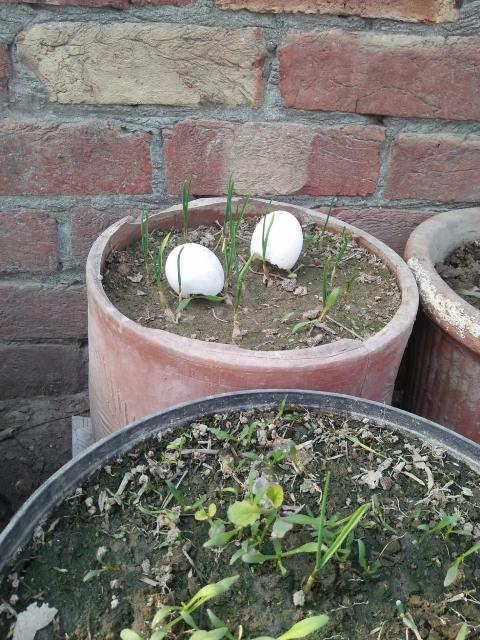Roto: (164, 242, 225, 298), (249, 210, 304, 271)
